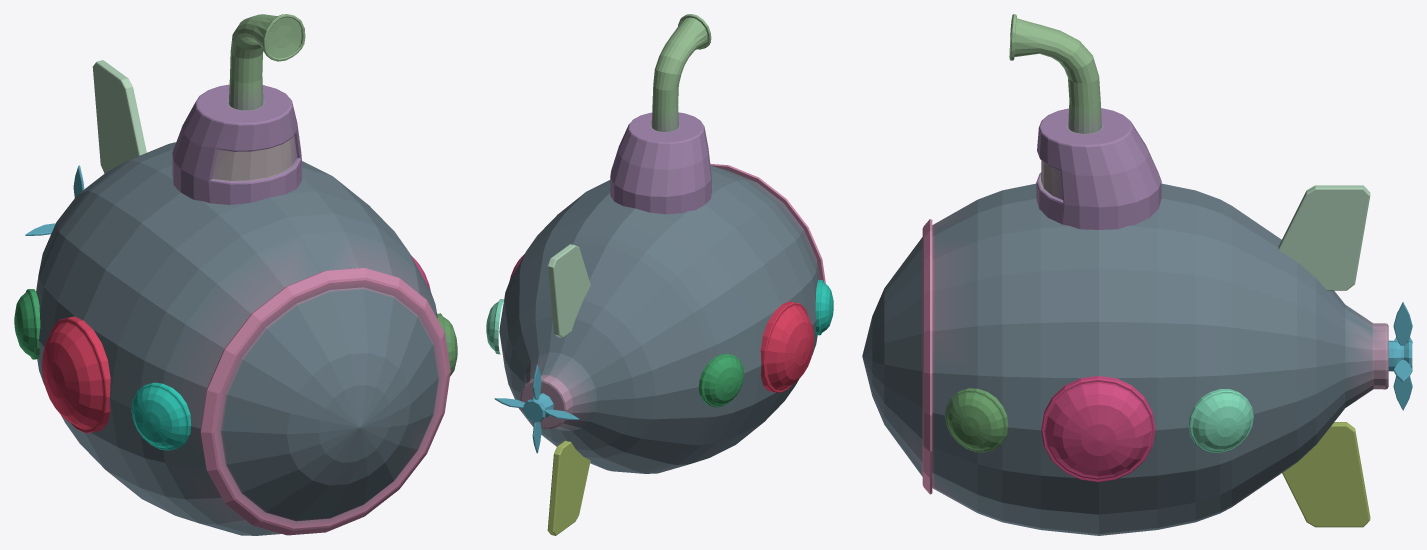
3 renders of one model, left to right at view 1: azimuth 30°, elevation 25°; view 2: azimuth 150°, elevation 25°; view 3: azimuth 270°, elevation 25°, orthographic. The views are drawn at different scales.
Visible parts, largest first — view 1: world; view 2: world; view 3: world.
Part boxes in pixels (box(x1,y1,x2,y2)): world: box(14, 14, 457, 535); world: box(486, 14, 833, 535); world: box(862, 14, 1412, 535).
Bounding box in the file's own units: 0.7203 × 1 × 0.9759.
